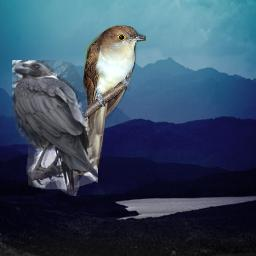Crow: (12, 60, 98, 196)
Cuckoo: (73, 24, 146, 175)
